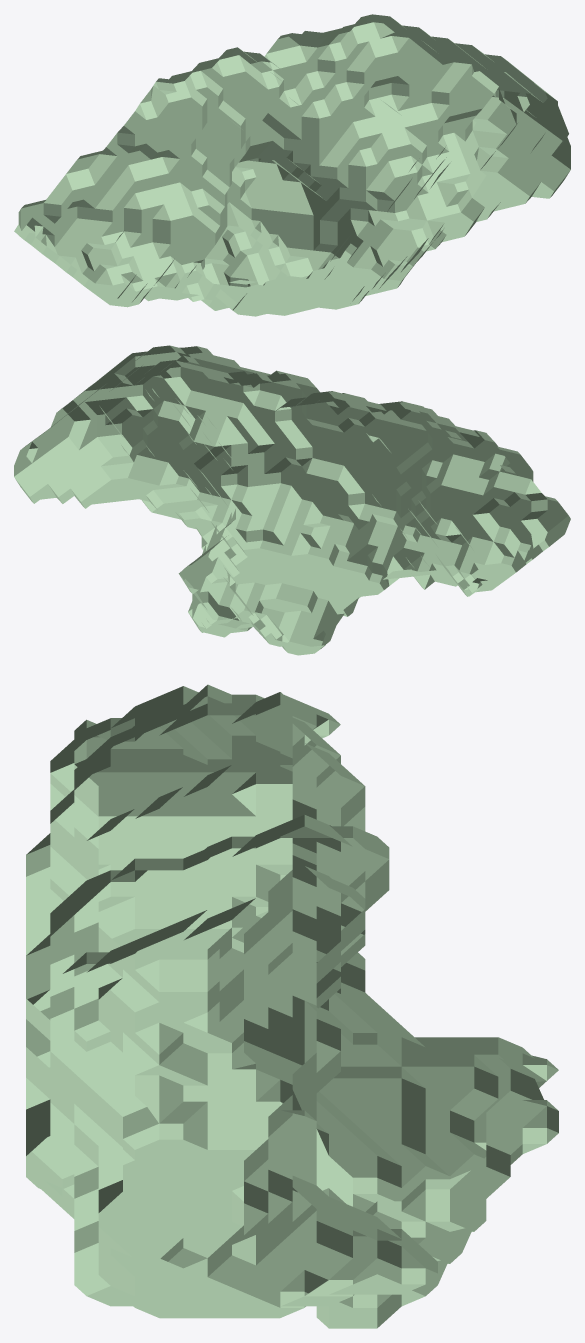
The model's file is region_0063_Hav__ventral_habenular_nucleus_.glb.
The picture shows the model from 3 angles, top to bottom: view 1: azimuth 30°, elevation 25°; view 2: azimuth 150°, elevation 25°; view 3: azimuth 270°, elevation 25°; orthographic projection. The views are drawn at different scales.
Parts seen in each view (by area): view 1: world; view 2: world; view 3: world.
Boxes of the visible parts, x1=… form: world: x1=14, y1=14, x2=570, y2=316; world: x1=14, y1=345, x2=570, y2=655; world: x1=26, y1=684, x2=558, y2=1328.
Size of the model in its own units: 0.376 by 0.176 by 0.176.
